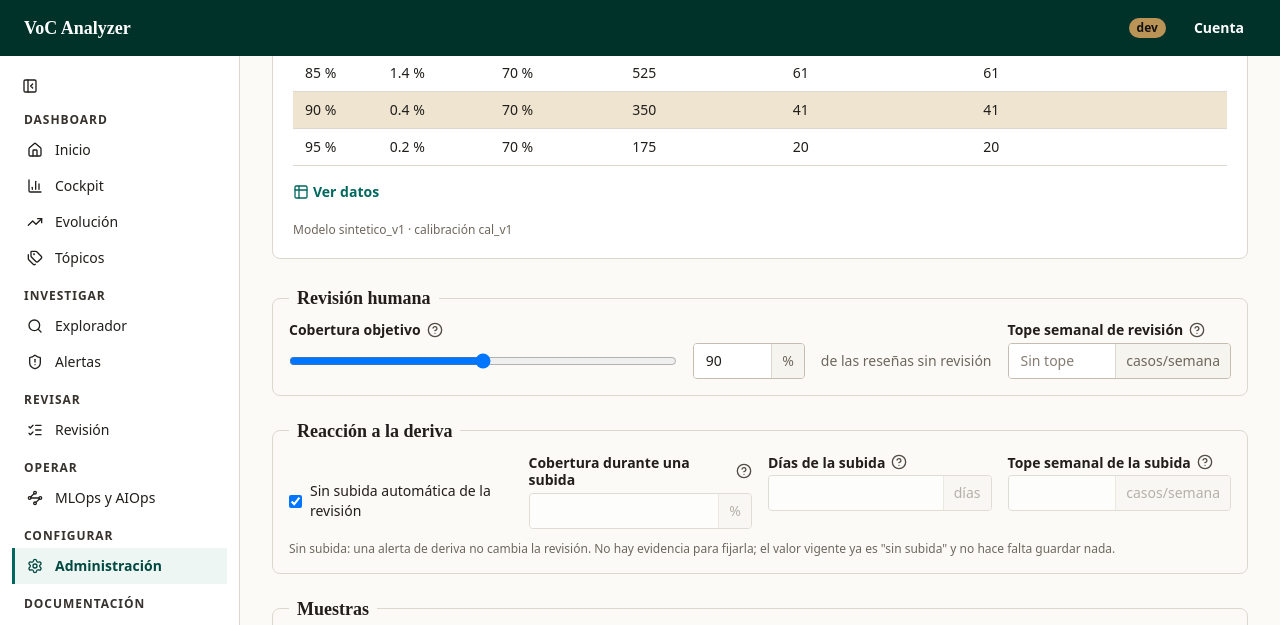
it: administración: apetito de riesgo › el control de cobertura mueve el punto propuesto
The image size is (1280, 625).
(page scrolled)
Check: the text "◆ Propuesto" is not shown
Replace the text in the number field labelled "Cobertura objetivo" with "85" at [732, 360], box x1=694 y1=344 x2=771 y2=378
(page scrolled)
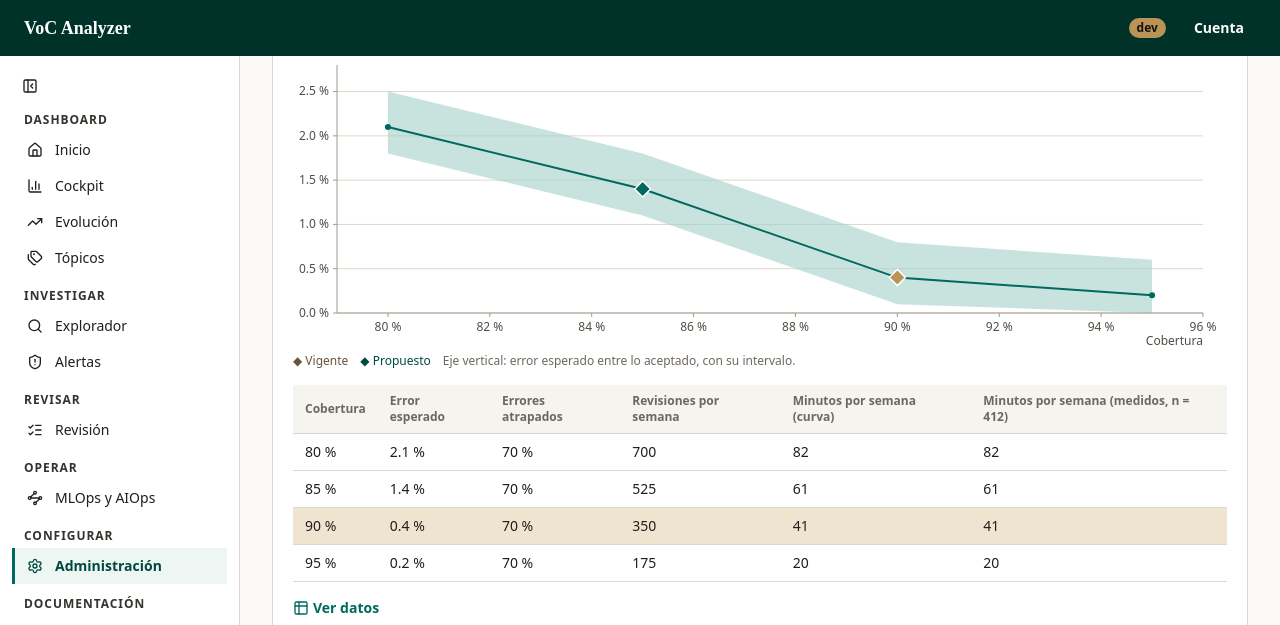
Check: the text "◆ Propuesto" is shown, box x1=360 y1=352 x2=431 y2=369
